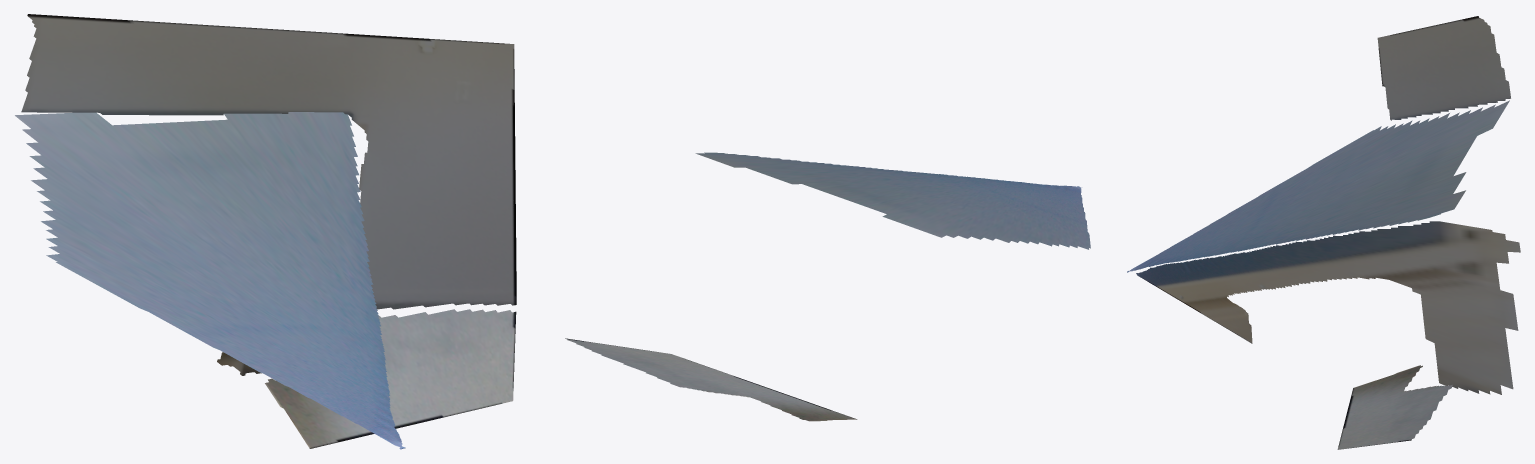
File: 136_d2_depth_predplane_pred_model.glb
3 views of the same model, side by side, from view 1: azimuth 30°, elevation 25°; view 2: azimuth 150°, elevation 25°; view 3: azimuth 270°, elevation 25° (orthographic). The views are drawn at different scales.
Size of the model in its own units: 2.67 by 2.09 by 2.44.
